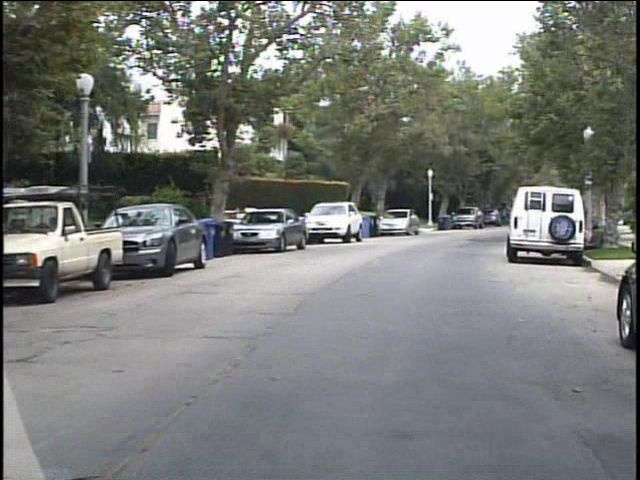person: (589, 222, 609, 254)
